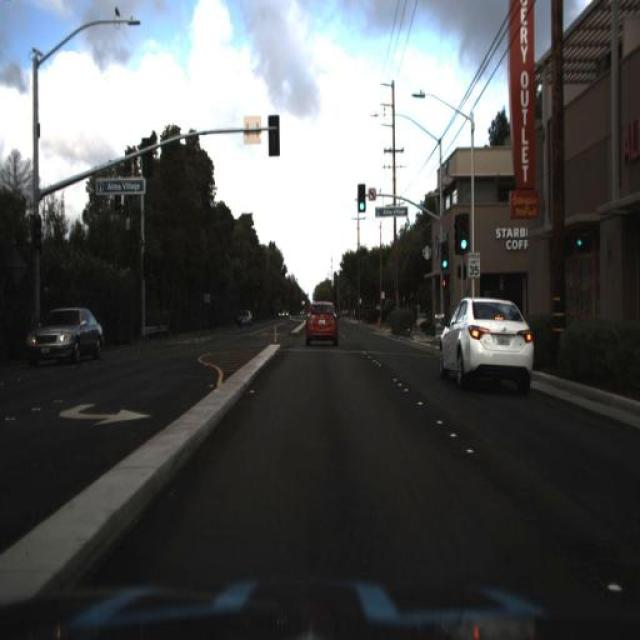car: (432, 295, 534, 401), (28, 305, 104, 366), (298, 296, 346, 352)
trafficLight-GreenLeft: (353, 189, 368, 219), (459, 228, 468, 256), (440, 255, 449, 273)
